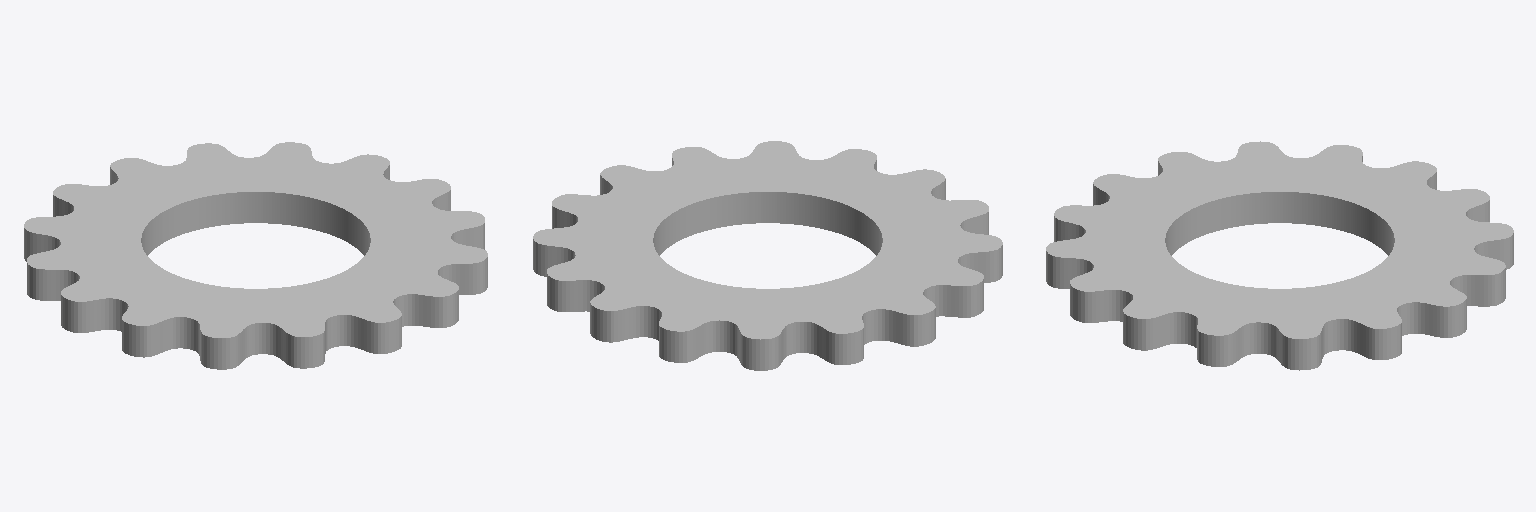
File: CogUV.obj
3 renders of one model, left to right at view 1: azimuth 30°, elevation 25°; view 2: azimuth 150°, elevation 25°; view 3: azimuth 270°, elevation 25°, orthographic.
Visible parts, largest first — view 1: Cog_Circle.002; view 2: Cog_Circle.002; view 3: Cog_Circle.002.
Boxes of the visible parts, x1=… form: Cog_Circle.002: x1=24, y1=142, x2=487, y2=369; Cog_Circle.002: x1=533, y1=141, x2=1002, y2=370; Cog_Circle.002: x1=1046, y1=141, x2=1513, y2=370.
Size of the model in its own units: 7.17 by 0.5309 by 7.17.